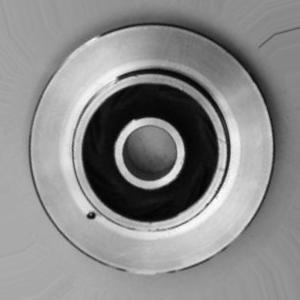pit: (82, 206, 101, 228)
scratch: (80, 71, 129, 113)
unpolished_casting: (29, 22, 276, 278)
